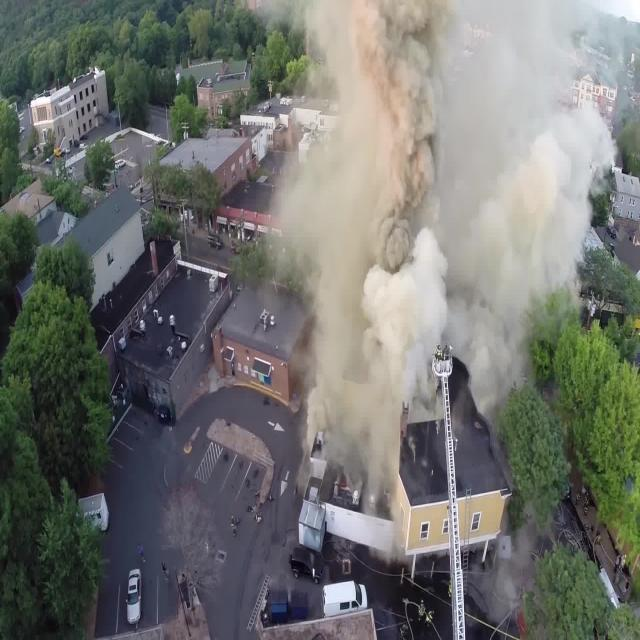Smoke: (288, 0, 566, 512)
